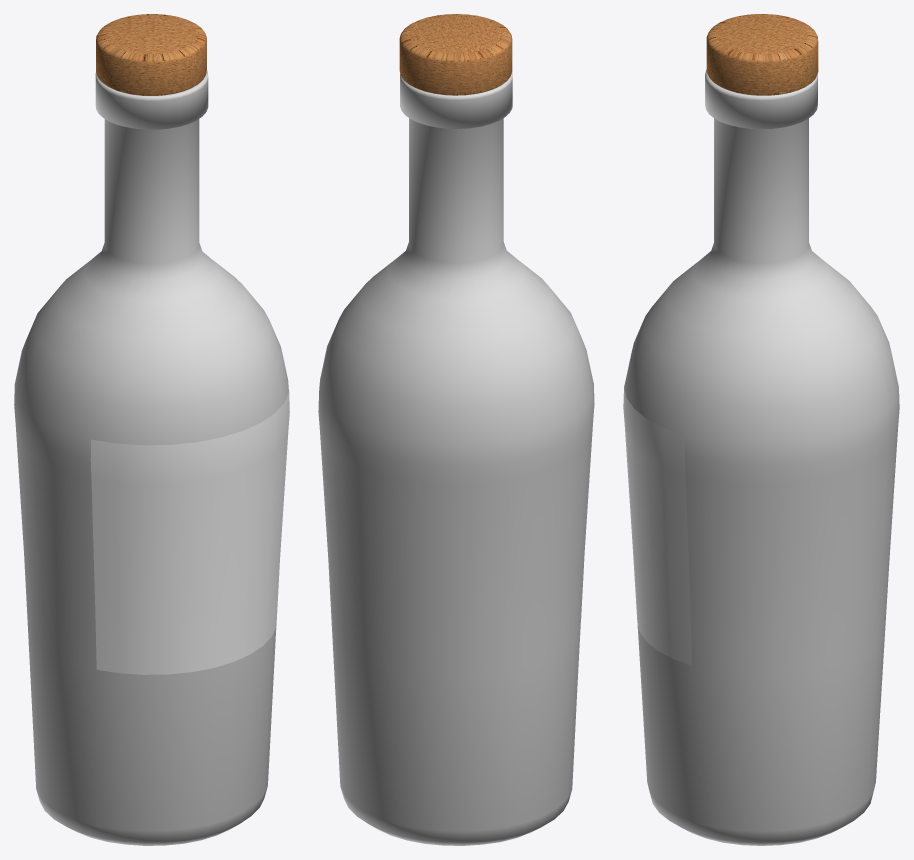
File: WINOILIKIERY.glb
3 views of the same model, side by side, from view 1: azimuth 30°, elevation 25°; view 2: azimuth 150°, elevation 25°; view 3: azimuth 270°, elevation 25° (orthographic).
Parts seen in each view (by area): view 1: butelka, Etykieta, Cylinder; view 2: butelka, Cylinder; view 3: butelka, Etykieta, Cylinder.
Part boxes in pixels (x1,y1,x2,y2): butelka: (14, 70, 288, 845); Etykieta: (90, 391, 289, 674); Cylinder: (96, 14, 206, 95); butelka: (318, 71, 594, 845); Cylinder: (399, 14, 512, 95); butelka: (624, 69, 899, 845); Etykieta: (623, 382, 692, 665); Cylinder: (706, 14, 818, 95).
Bounding box in the file's own units: 1.4 × 4.3 × 1.4.
Materials: 3 (1 with a texture image).
